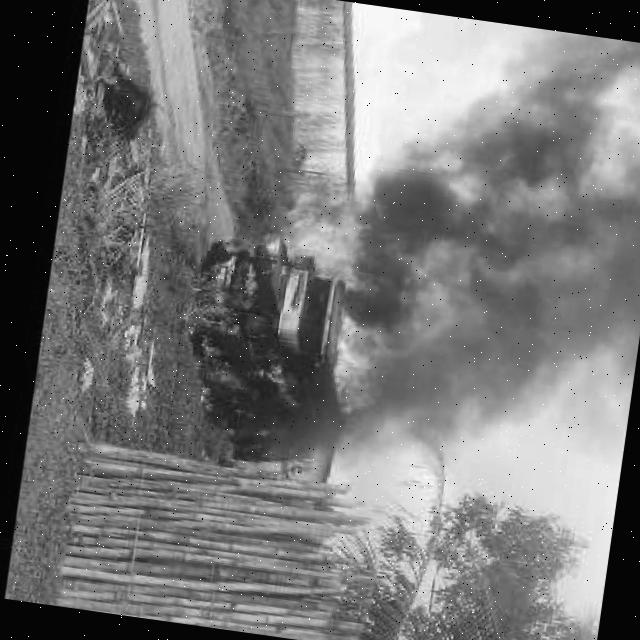fire: (344, 9, 640, 485), (261, 184, 392, 298), (333, 310, 411, 414), (194, 342, 262, 398), (242, 264, 266, 309)
